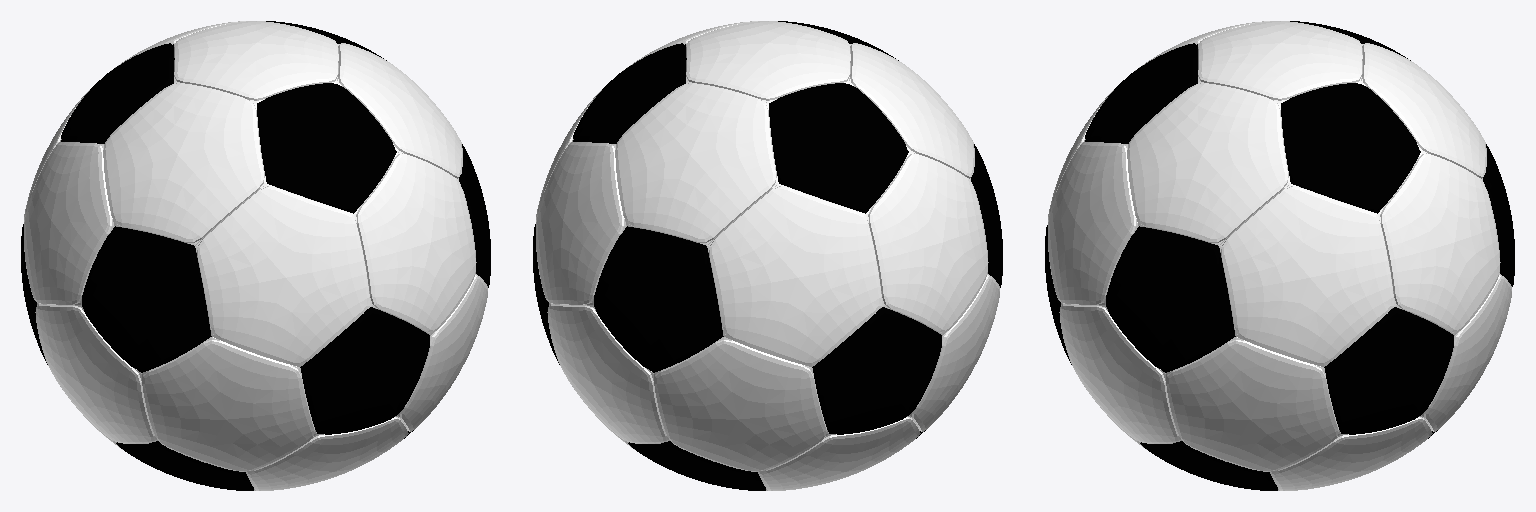
The model's file is Ball_Sepp_Step_03a.obj.
3 views of the same model, side by side, from view 1: azimuth 30°, elevation 25°; view 2: azimuth 150°, elevation 25°; view 3: azimuth 270°, elevation 25° (orthographic).
Visible parts, largest first — view 1: Object061; view 2: Object061; view 3: Object061.
Boxes of the visible parts, x1,y1,x2,y2 form: Object061: [21, 21, 490, 490]; Object061: [533, 21, 1002, 490]; Object061: [1045, 21, 1514, 490].
Bounding box in the file's own units: 229 × 229 × 230.